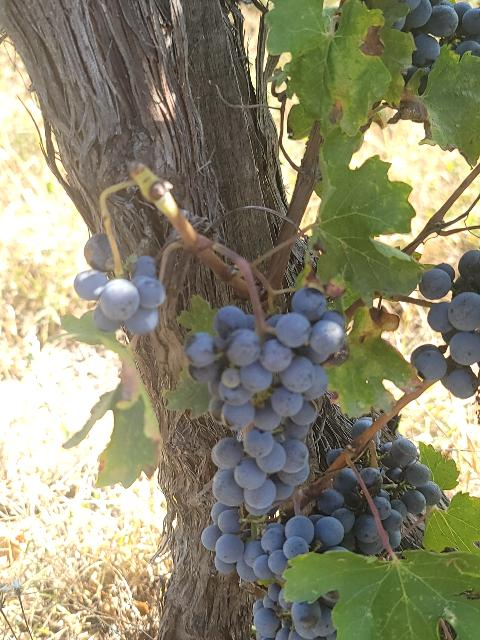grapes: (185, 288, 346, 572), (243, 522, 336, 640), (74, 234, 165, 335), (359, 438, 441, 549), (309, 468, 385, 555)
